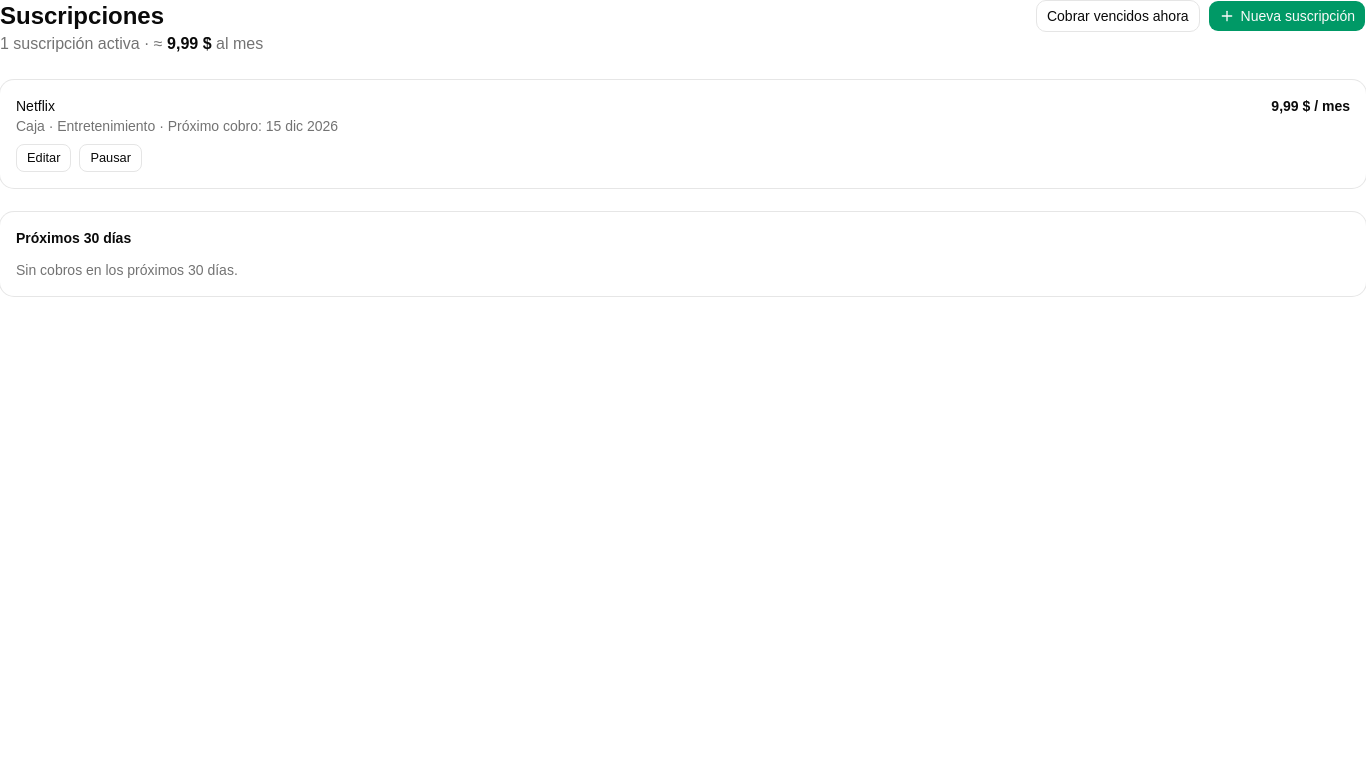
SubscriptionsPage › opens the edit dialog with the subscription data
The image size is (1366, 768).
Expected: the text "Netflix" is shown, [16, 98, 55, 114]
Click the button "Editar": (44, 158) [16, 144, 71, 172]
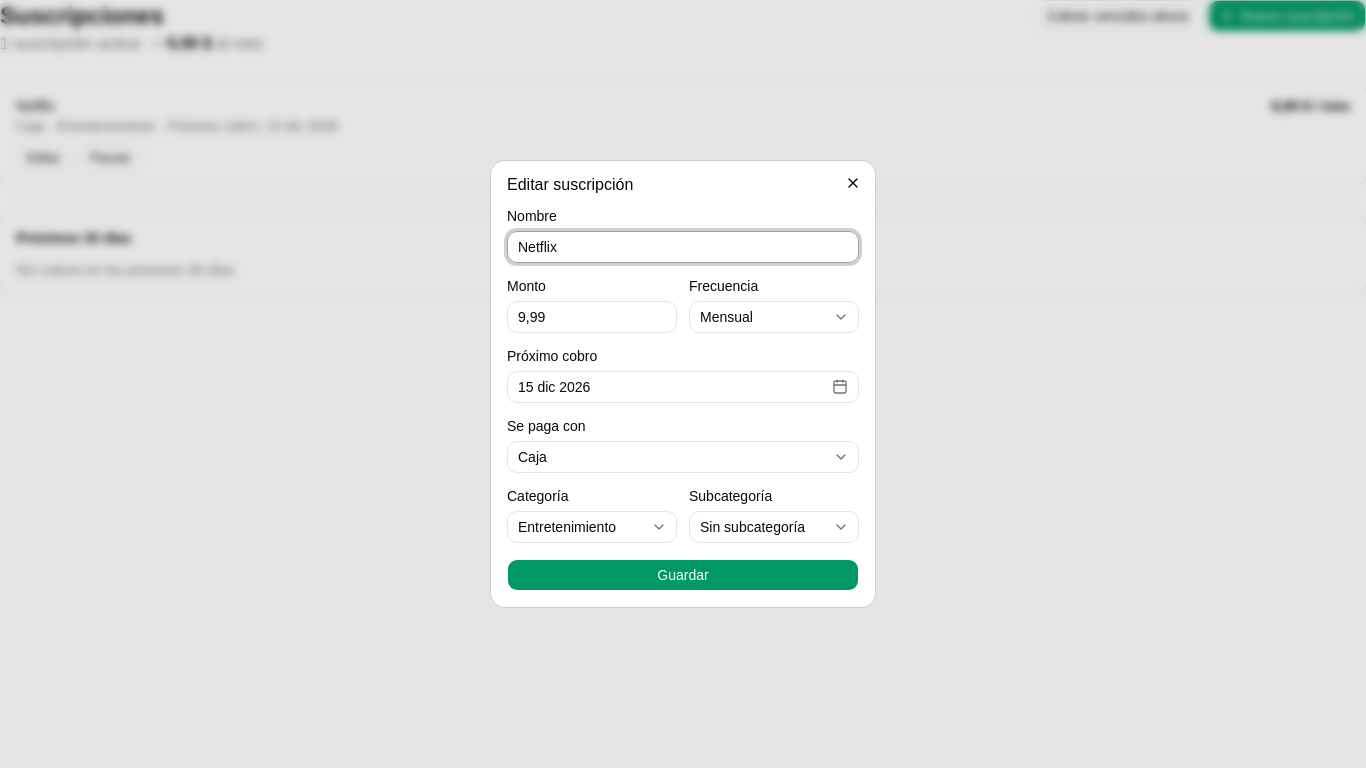
Now the heading "Editar suscripción" is shown, box [507, 176, 633, 193]
Now the field labelled "Nombre" holds "Netflix", box [507, 231, 859, 263]
